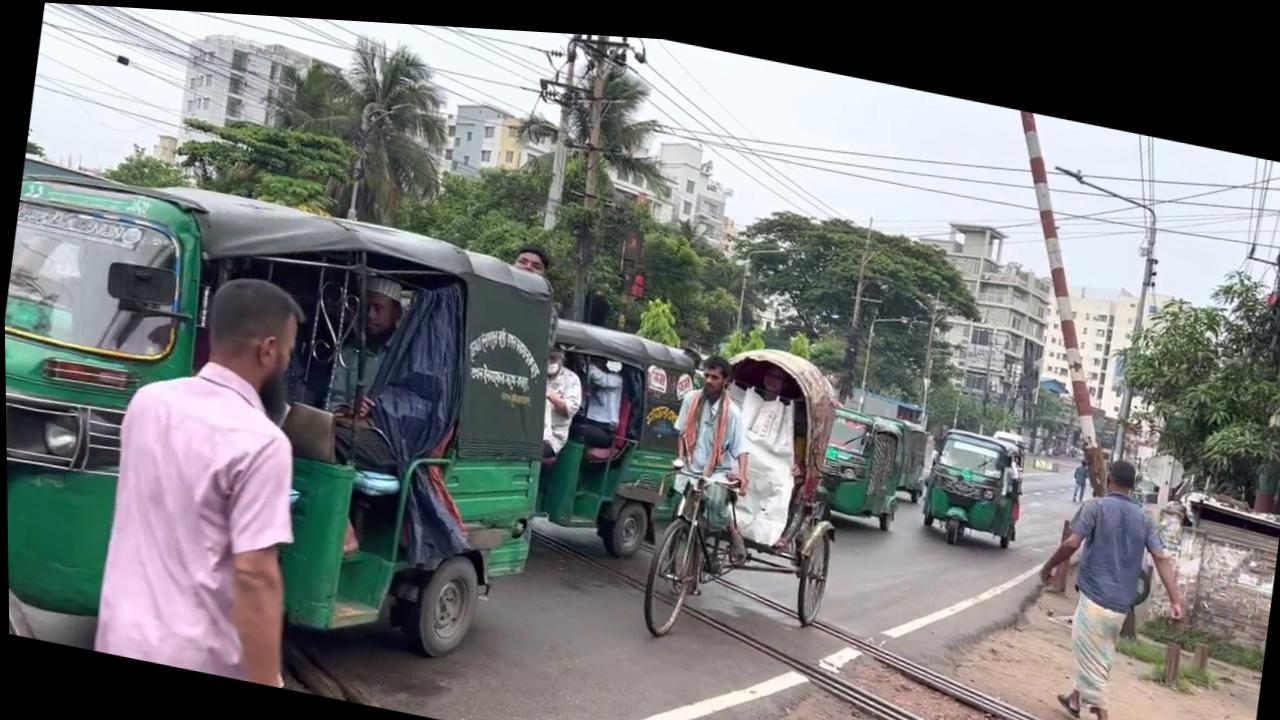Fence: (84, 250, 337, 686), (1012, 430, 1202, 720), (647, 339, 773, 598), (1068, 444, 1091, 491)
Garbage: (967, 95, 1156, 486), (1014, 147, 1170, 453)
Motorcycle: (500, 508, 1260, 720)
Muddy road: (632, 317, 859, 660)
Railroad-crossing: (1093, 230, 1280, 499)
Rickshaw: (2, 148, 575, 720)
